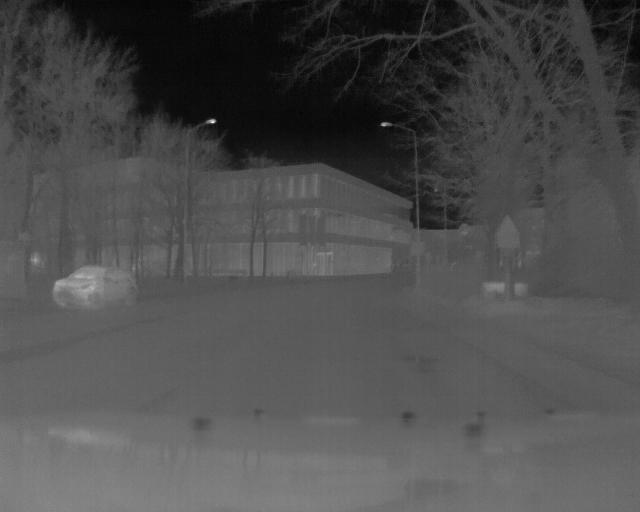car: (52, 267, 143, 310)
